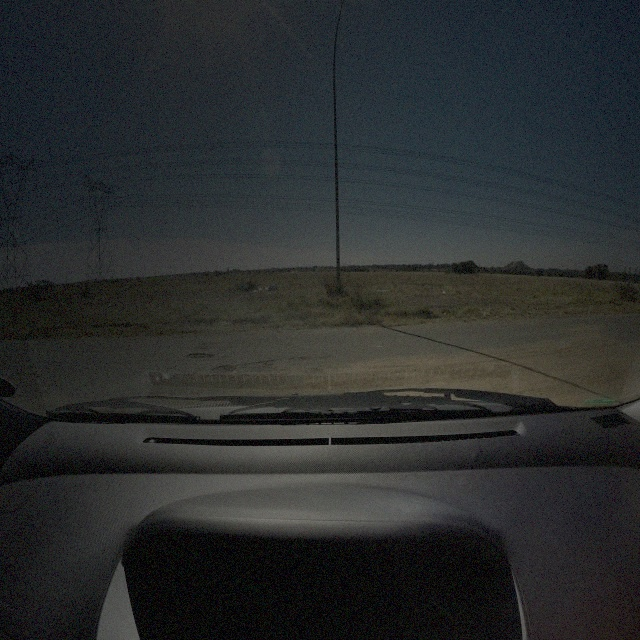pothole: (240, 358, 277, 376), (212, 365, 237, 377), (187, 349, 214, 360)
